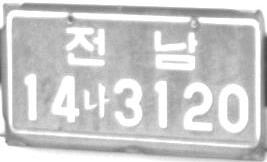0: (217, 82, 249, 133)
1: (149, 79, 173, 129), (19, 72, 43, 121)
2: (182, 81, 213, 132)
3: (113, 77, 143, 127)
4: (50, 74, 79, 123)
나: (82, 82, 110, 118)
전남_D: (63, 25, 198, 71)
